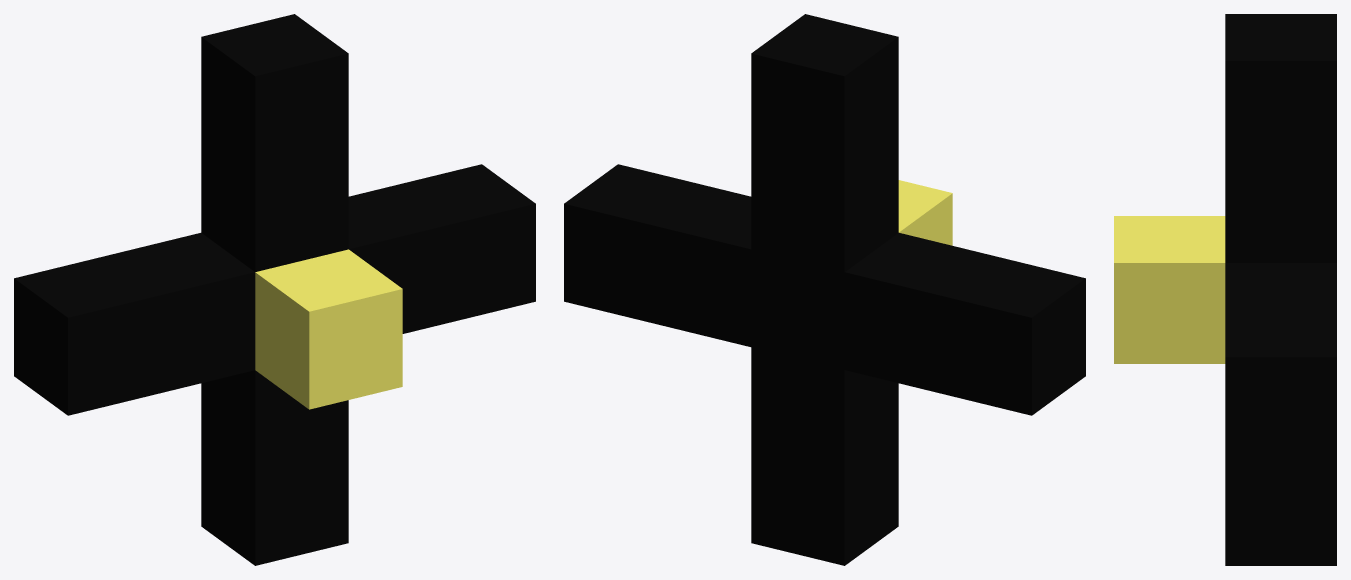
Rendered from propeller.obj.
3 views of the same model, side by side, from view 1: azimuth 30°, elevation 25°; view 2: azimuth 150°, elevation 25°; view 3: azimuth 270°, elevation 25° (orthographic). The views are drawn at different scales.
Bounding box in the file's own units: 25 × 25 × 10.
1 material, 1 textured.
